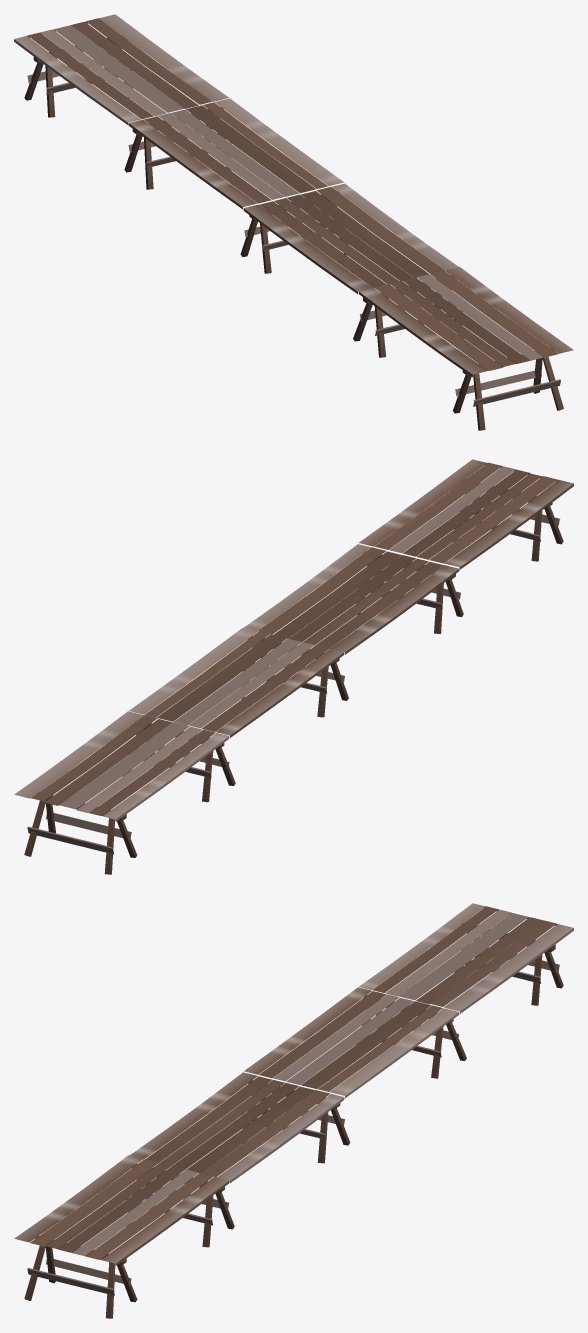
The model's file is prop_tally_table.glb.
The picture shows the model from 3 angles, top to bottom: view 1: azimuth 30°, elevation 25°; view 2: azimuth 150°, elevation 25°; view 3: azimuth 330°, elevation 25°; orthographic projection.
Parts seen in each view (by area): view 1: prop_tally_table_mesh; view 2: prop_tally_table_mesh; view 3: prop_tally_table_mesh.
Boxes of the visible parts, <box> form: prop_tally_table_mesh: <box>14,14,573,430</box>; prop_tally_table_mesh: <box>14,459,573,874</box>; prop_tally_table_mesh: <box>14,903,573,1318</box>.
Bounding box in the file's own units: 1.4 × 0.8101 × 10.99.
